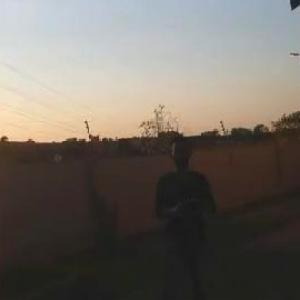follow: (147, 125, 226, 299)
